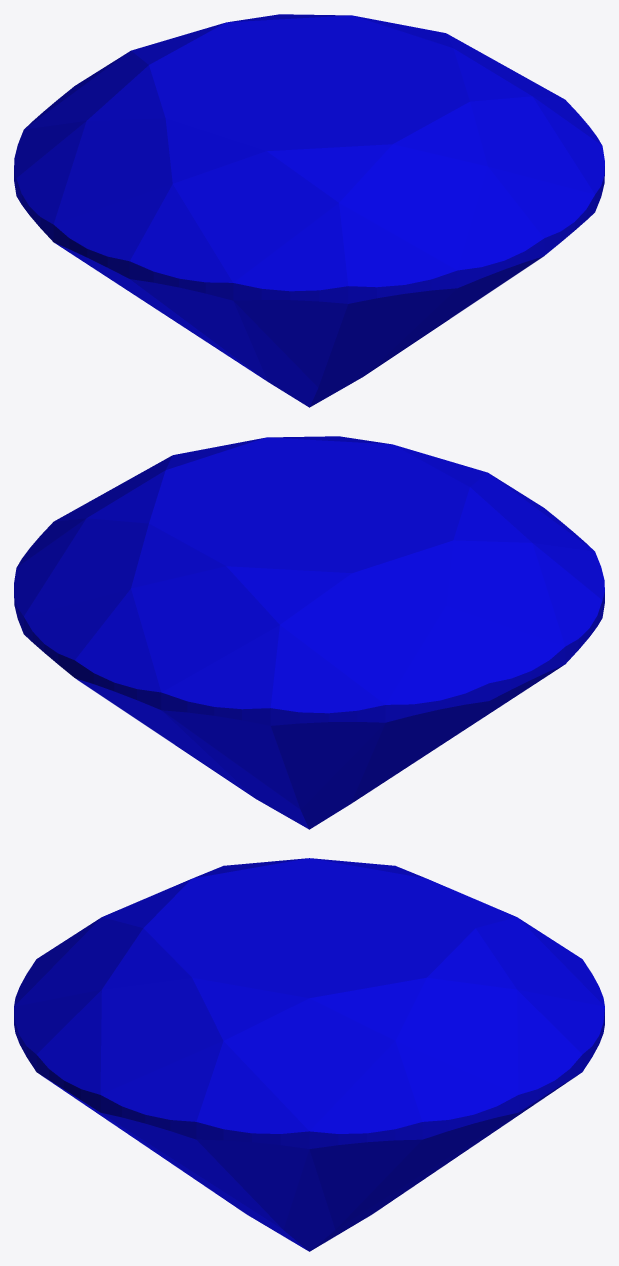
Rendered from Head_No Halo_Round_1.5ct_Diamond.glb.
3 views of the same model, one above another, from view 1: azimuth 30°, elevation 25°; view 2: azimuth 150°, elevation 25°; view 3: azimuth 270°, elevation 25° (orthographic).
Bounding box in the file's own units: 0.00736 × 0.00446 × 0.00738.
